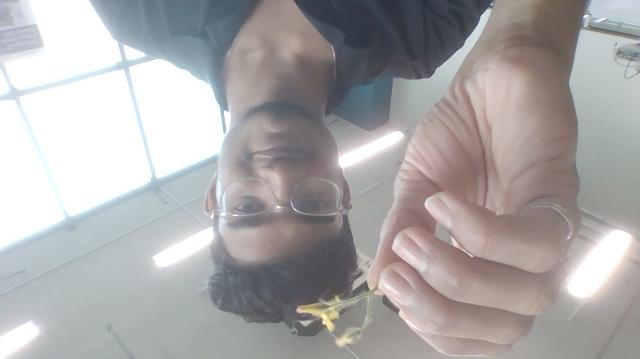Anthesis: (296, 296, 342, 332), (336, 328, 361, 347), (320, 311, 337, 332), (330, 294, 341, 305)
